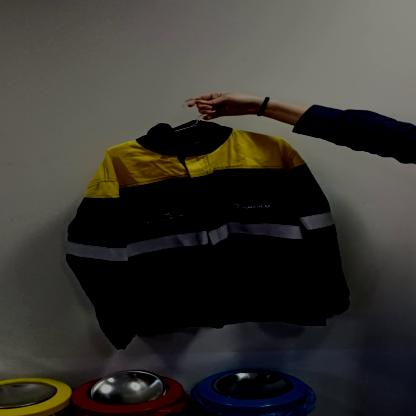C_eletrica: (68, 123, 356, 343)
